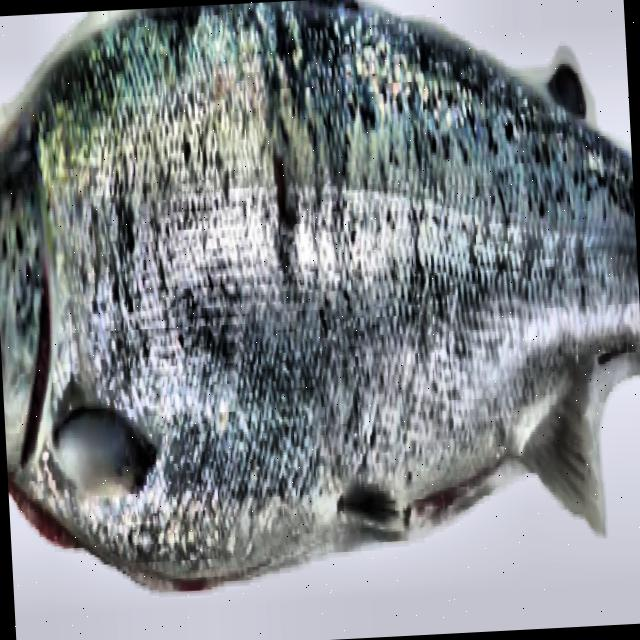mild_red: (40, 2, 639, 570)
